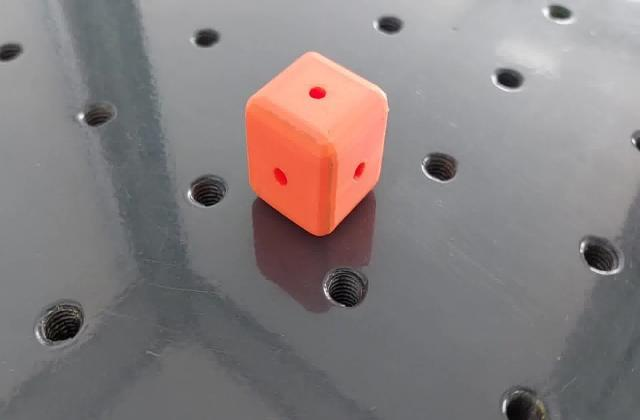cube: (242, 45, 391, 242)
